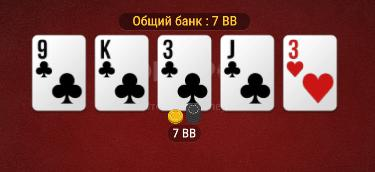3c: (158, 35, 211, 111)
3h: (284, 36, 336, 109)
9c: (33, 35, 86, 110)
Jc: (221, 36, 274, 111)
Kc: (95, 35, 148, 111)
